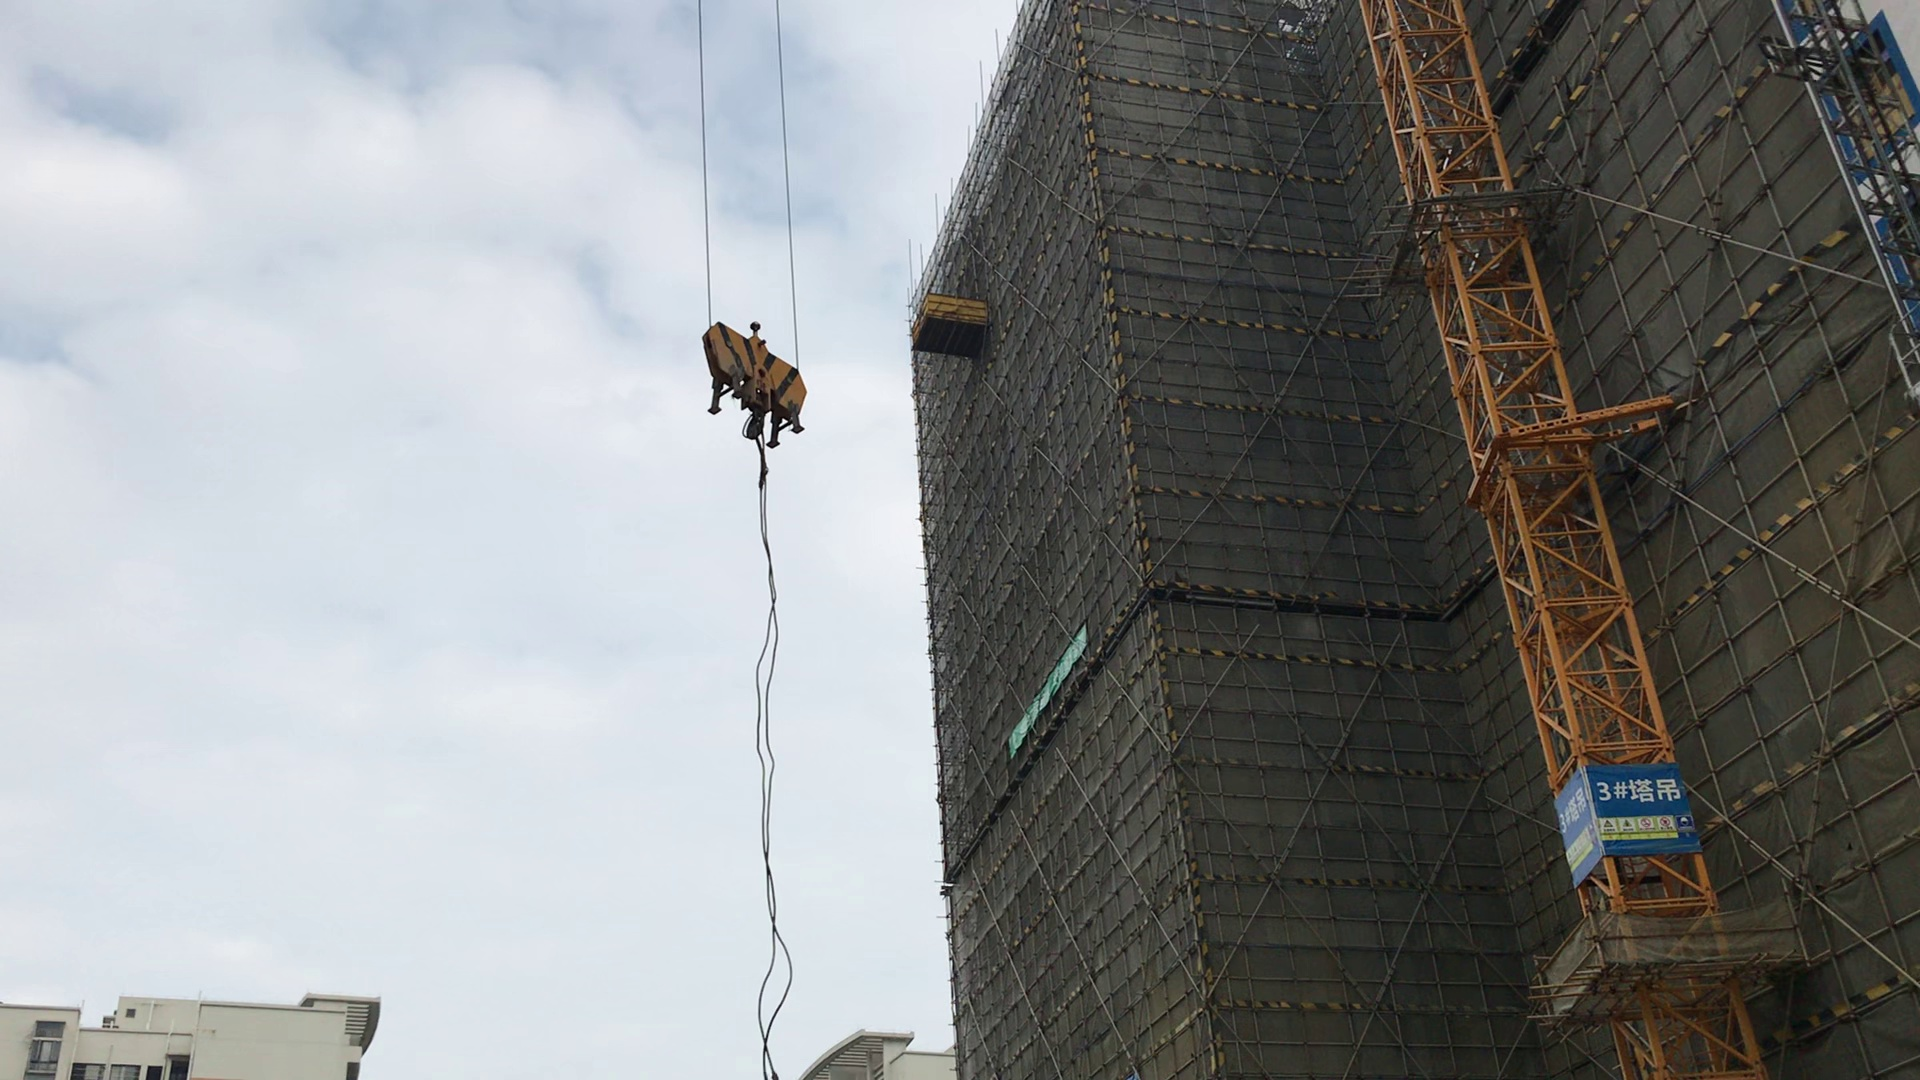hook: (686, 305, 822, 454)
slogan: (993, 659, 1131, 736)
